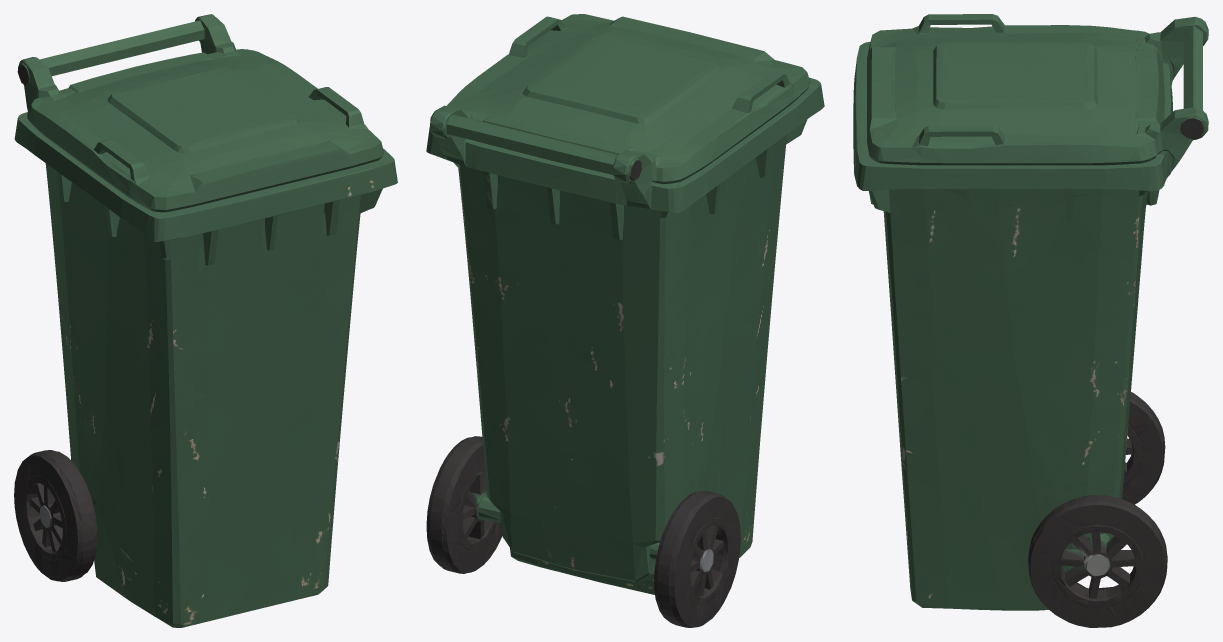
File: trash_bin_wheeled.glb
3 renders of one model, left to right at view 1: azimuth 30°, elevation 25°; view 2: azimuth 150°, elevation 25°; view 3: azimuth 270°, elevation 25°, orthographic. The views are drawn at different scales.
Visible parts, largest first — view 1: trash_bin_wheeled; view 2: trash_bin_wheeled; view 3: trash_bin_wheeled.
Part boxes in pixels (<box>): trash_bin_wheeled: <box>14,14,397,627</box>; trash_bin_wheeled: <box>426,14,824,627</box>; trash_bin_wheeled: <box>853,14,1208,627</box>.
Bounding box in the file's own units: 0.5922 × 1.07 × 0.6835.
Materials: 1 (1 with a texture image).
